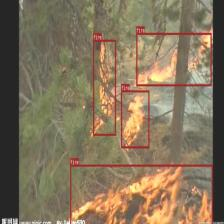fire: (70, 164, 212, 224), (136, 33, 212, 86), (92, 40, 116, 135), (121, 90, 149, 148)
